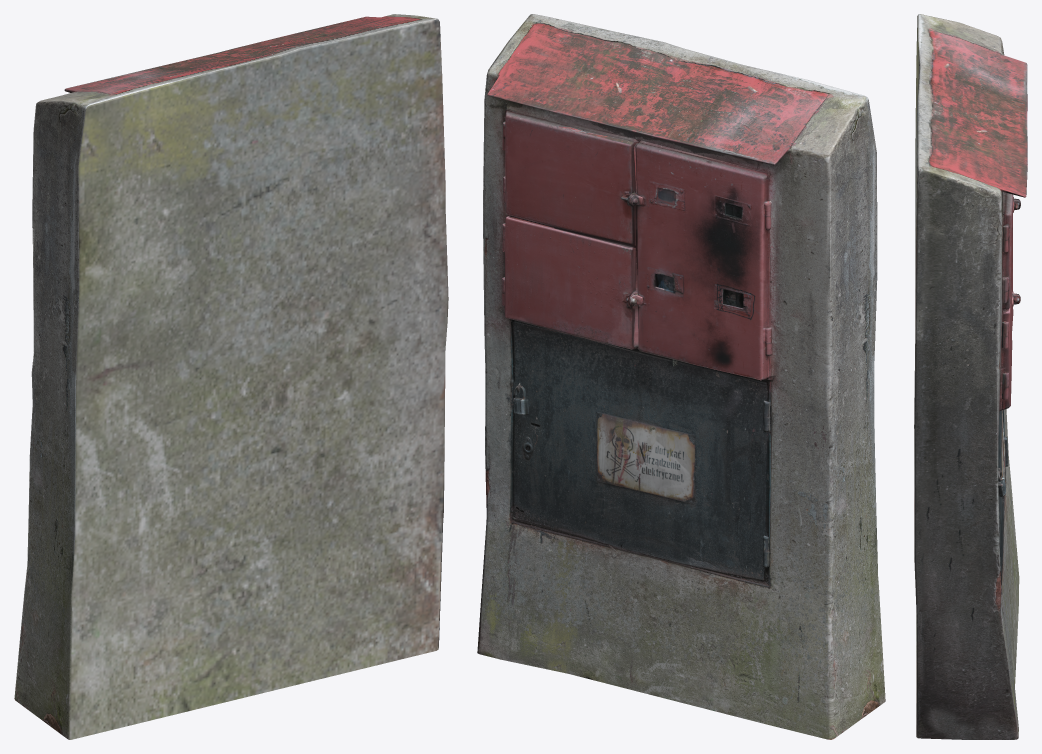
File: sm_FuseBox_03_01.fbx
The picture shows the model from 3 angles, left to right: view 1: azimuth 30°, elevation 25°; view 2: azimuth 150°, elevation 25°; view 3: azimuth 270°, elevation 25°; orthographic projection. The views are drawn at different scales.
Parts seen in each view (by area): view 1: sm_FuseBox_03_01_LOD0; view 2: sm_FuseBox_03_01_LOD0; view 3: sm_FuseBox_03_01_LOD0.
Boxes of the visible parts, left/top/right/bottom form: sm_FuseBox_03_01_LOD0: left=14, top=14, right=448, bottom=739; sm_FuseBox_03_01_LOD0: left=477, top=14, right=885, bottom=739; sm_FuseBox_03_01_LOD0: left=914, top=14, right=1027, bottom=739.
Bounding box in the file's own units: 25.49 × 88.85 × 142.
